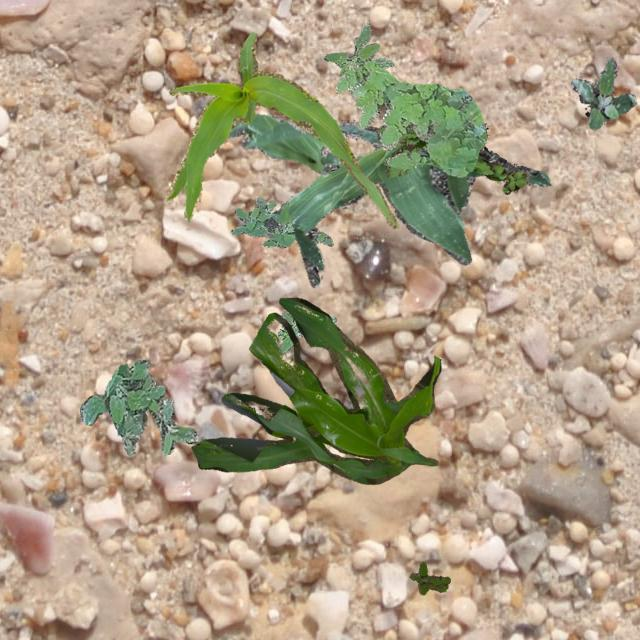crop: (190, 296, 440, 484), (165, 31, 398, 228), (286, 120, 550, 286), (226, 112, 342, 174)
weed: (336, 61, 486, 176), (78, 358, 198, 454), (376, 124, 528, 194), (230, 196, 332, 246), (570, 56, 636, 128), (322, 21, 393, 76), (276, 310, 336, 350), (408, 562, 448, 594)
